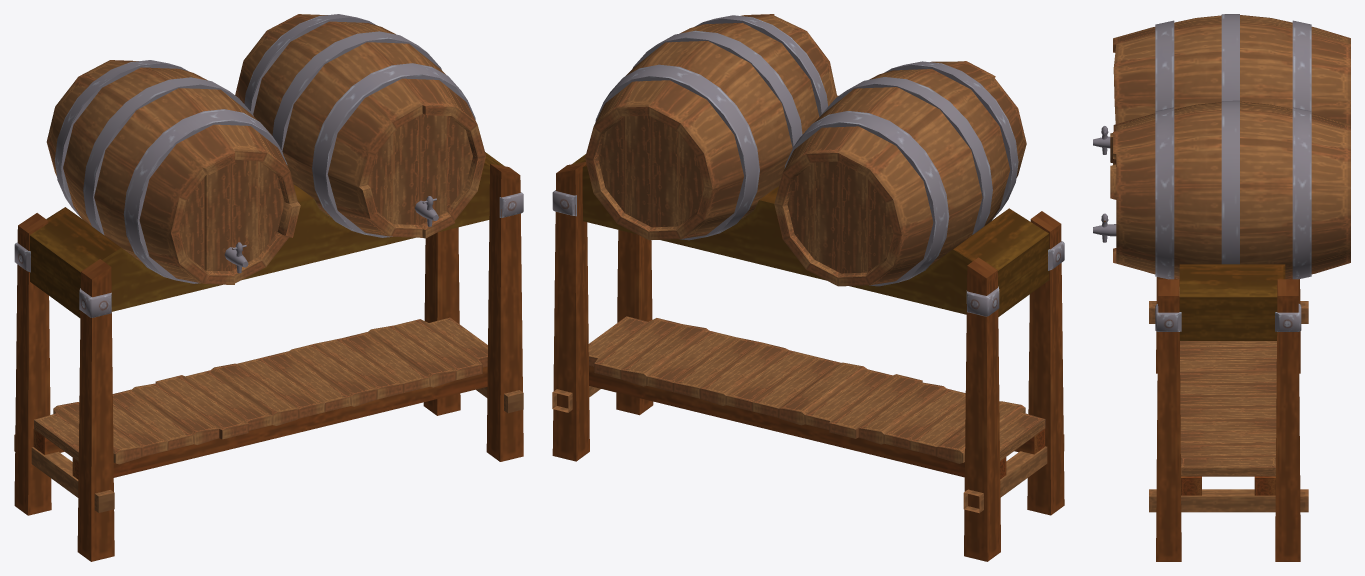
File: barrel_holder.glb
3 renders of one model, left to right at view 1: azimuth 30°, elevation 25°; view 2: azimuth 150°, elevation 25°; view 3: azimuth 270°, elevation 25°, orthographic. The views are drawn at different scales.
Parts seen in each view (by area): view 1: Barrel_Holder; view 2: Barrel_Holder; view 3: Barrel_Holder.
Boxes of the visible parts, <box> form: Barrel_Holder: <box>14,14,523,561</box>; Barrel_Holder: <box>552,14,1064,561</box>; Barrel_Holder: <box>1093,14,1350,561</box>.
Size of the model in its own units: 1.36 by 1.26 by 0.741.
Materials: 2 (2 with a texture image).
